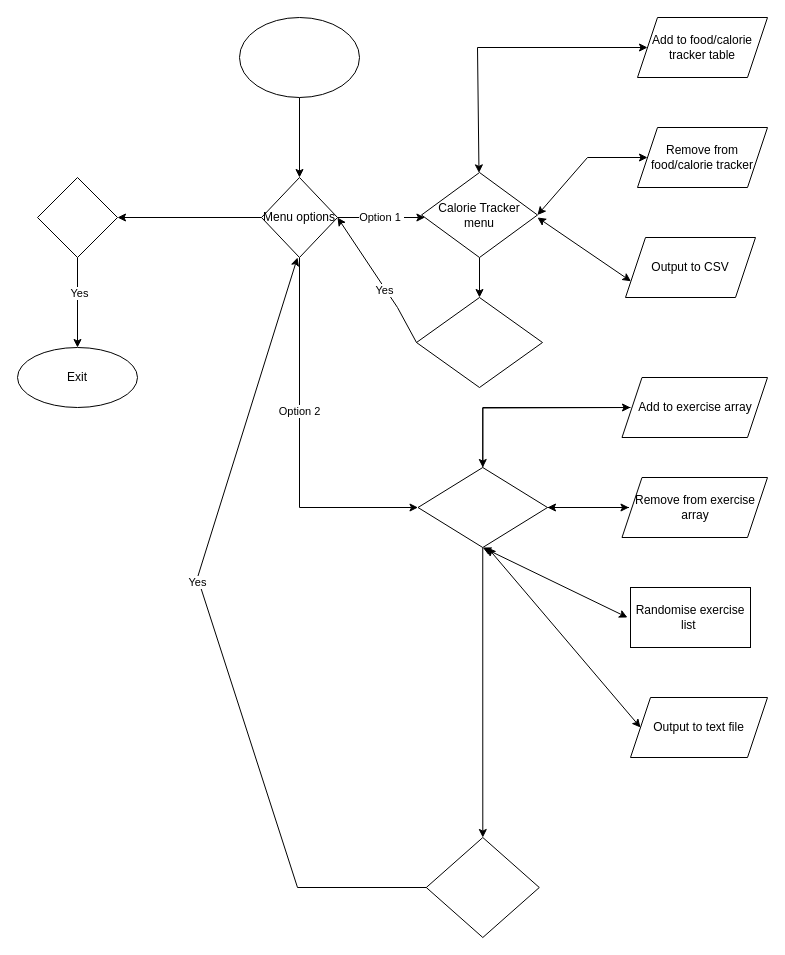
This 785x955 diagram has some shape labels left out. Each missing label, with the centre of its shape:
"Exercise menu" belongs at (x=482, y=507).
"Exit calorie tracker menu?" belongs at (x=479, y=342).
"Exit exercise menu?" belongs at (x=482, y=887).
"Exit program?" belongs at (x=77, y=217).
"Start" belongs at (x=299, y=57).
